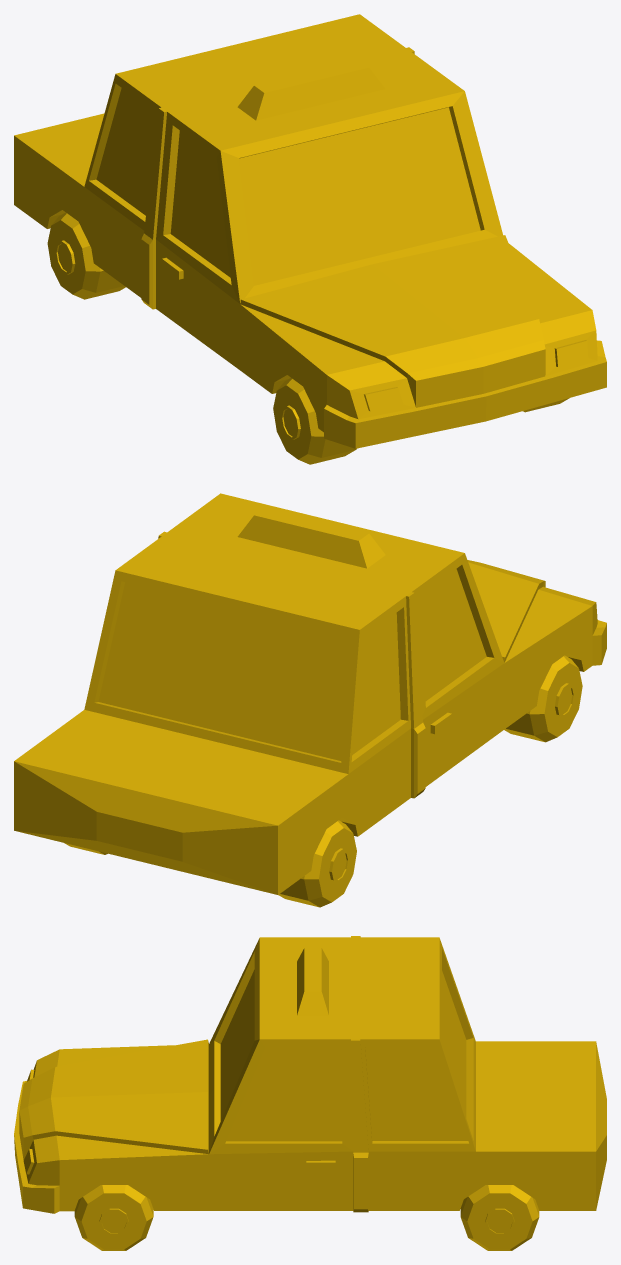
The model's file is taxi.glb.
3 renders of one model, top to bottom at view 1: azimuth 30°, elevation 25°; view 2: azimuth 150°, elevation 25°; view 3: azimuth 270°, elevation 25°, orthographic. The views are drawn at different scales.
Parts seen in each view (by area): view 1: Taxi, Front_Wheels, BackWheels; view 2: Taxi, BackWheels, Front_Wheels; view 3: Taxi, BackWheels, Front_Wheels.
Part boxes in pixels (<box>): Taxi: <box>14,14,606,448</box>; Front_Wheels: <box>273,378,569,464</box>; BackWheels: <box>47,212,125,299</box>; Taxi: <box>14,493,606,894</box>; BackWheels: <box>64,820,356,907</box>; Front_Wheels: <box>504,655,582,742</box>; Taxi: <box>14,936,606,1213</box>; BackWheels: <box>460,1185,539,1250</box>; Front_Wheels: <box>74,1185,153,1250</box>.
Bounding box in the file's own units: 184 × 169 × 397.
